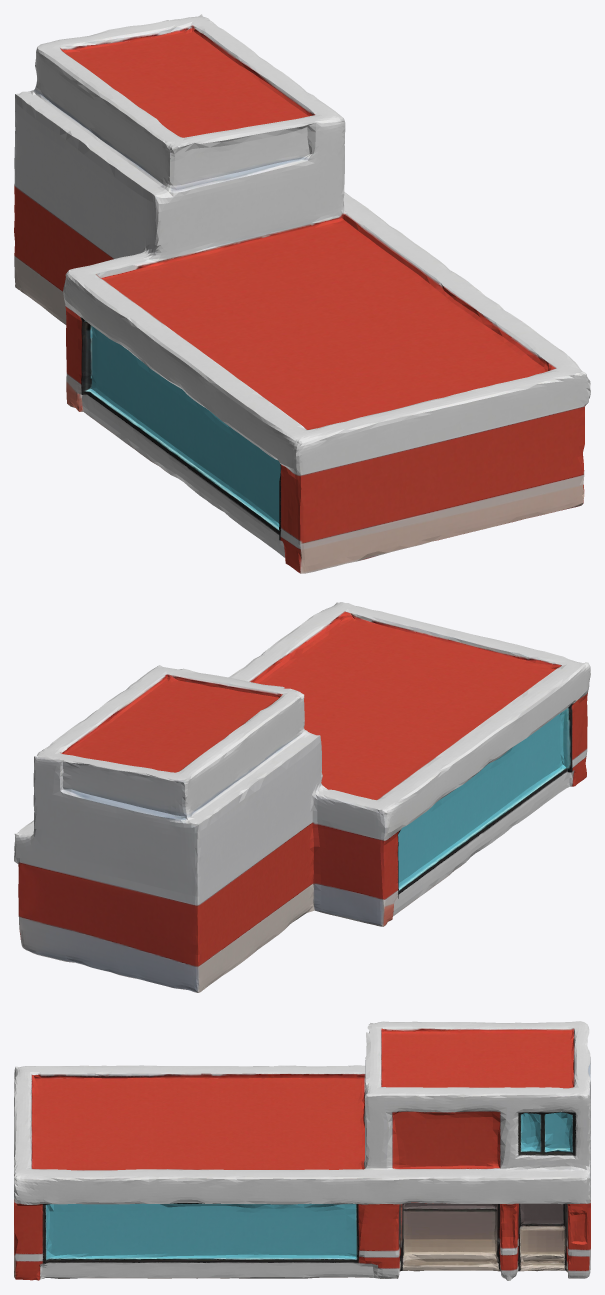
File: Xerox_shop.glb
The picture shows the model from 3 angles, top to bottom: view 1: azimuth 30°, elevation 25°; view 2: azimuth 150°, elevation 25°; view 3: azimuth 270°, elevation 25°; orthographic projection. The views are drawn at different scales.
Parts seen in each view (by area): view 1: tripo_node_614217bf-b840-46c3-9177-431aeb1570ba; view 2: tripo_node_614217bf-b840-46c3-9177-431aeb1570ba; view 3: tripo_node_614217bf-b840-46c3-9177-431aeb1570ba.
Part boxes in pixels (left/top/right/bottom): tripo_node_614217bf-b840-46c3-9177-431aeb1570ba: left=14, top=14, right=590, bottom=573; tripo_node_614217bf-b840-46c3-9177-431aeb1570ba: left=14, top=602, right=590, bottom=992; tripo_node_614217bf-b840-46c3-9177-431aeb1570ba: left=14, top=1021, right=590, bottom=1280.
Bounding box in the file's own units: 0.4653 × 0.3603 × 0.9992.
Materials: 1 (1 with a texture image).
